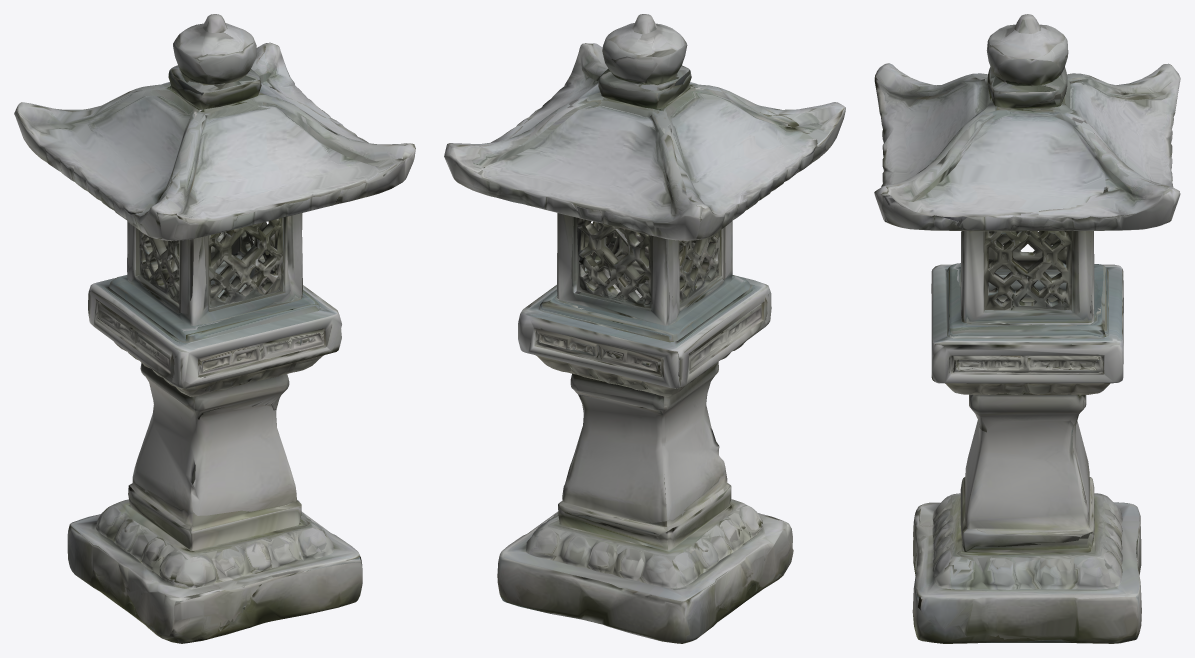
File: lantern-compressed.glb
3 views of the same model, side by side, from view 1: azimuth 30°, elevation 25°; view 2: azimuth 150°, elevation 25°; view 3: azimuth 270°, elevation 25° (orthographic). The views are drawn at different scales.
Visible parts, largest first — view 1: node_0; view 2: node_0; view 3: node_0.
Boxes of the visible parts, bbox=[...] form: node_0: bbox=[14, 14, 415, 643]; node_0: bbox=[444, 14, 845, 643]; node_0: bbox=[874, 14, 1180, 643].
Bounding box in the file's own units: 0.5798 × 1.2 × 0.5722.
1 material, 1 textured.
